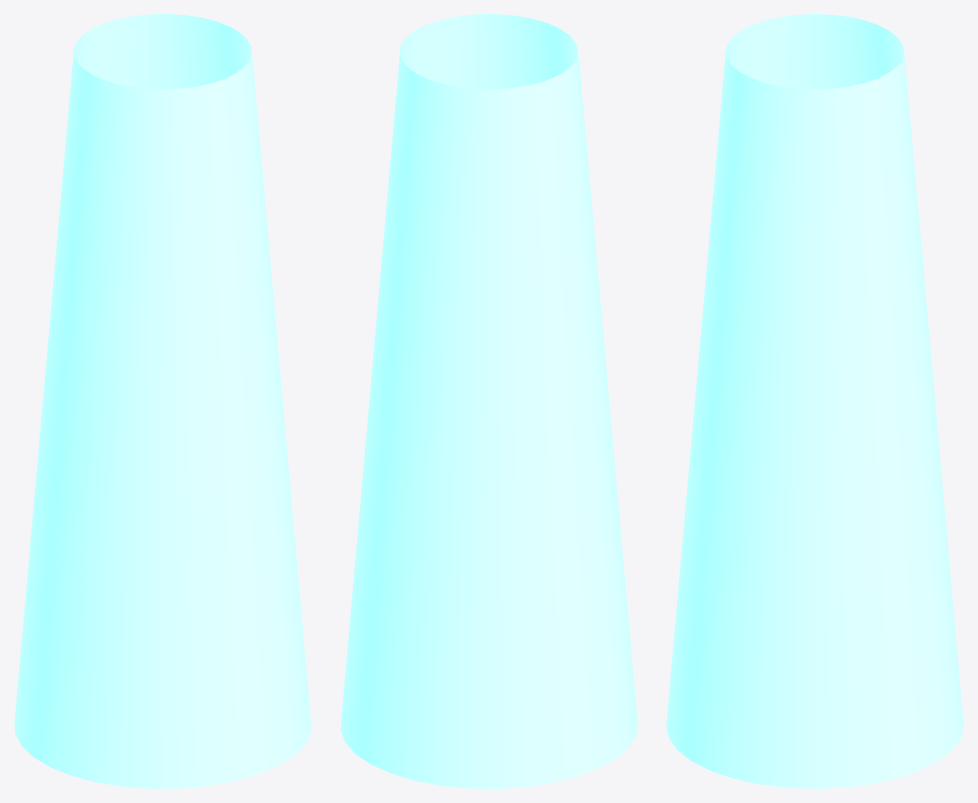
Rendered from Beam_Start.fbx.
3 views of the same model, side by side, from view 1: azimuth 30°, elevation 25°; view 2: azimuth 150°, elevation 25°; view 3: azimuth 270°, elevation 25° (orthographic).
Visible parts, largest first — view 1: Beam_Start; view 2: Beam_Start; view 3: Beam_Start.
Boxes of the visible parts, x1,y1,x2,y2 form: Beam_Start: (14, 14, 311, 788); Beam_Start: (340, 14, 637, 788); Beam_Start: (666, 14, 963, 788).
Bounding box in the file's own units: 4.8 × 12 × 4.8.
